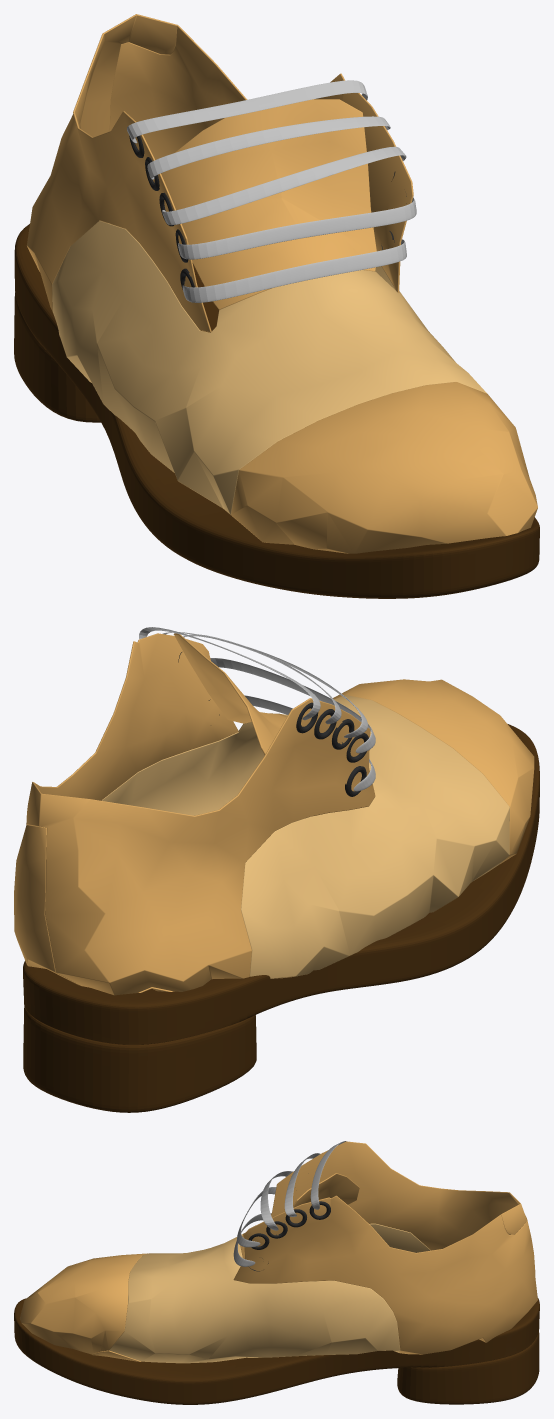
Rendered from za1ve1derecha.fbx.
3 views of the same model, one above another, from view 1: azimuth 30°, elevation 25°; view 2: azimuth 150°, elevation 25°; view 3: azimuth 270°, elevation 25° (orthographic). The views are drawn at different scales.
Visible parts, largest first — view 1: ZAPATO1_3, Plane, Plane.002, Plane.005, Plane.001, Plane.004, Plane.003; view 2: ZAPATO1_3, Plane, Plane.002, Plane.004, Plane.005, Plane.001; view 3: ZAPATO1_3, Plane, Plane.001, Plane.004, Plane.003, Plane.002, Plane.005.
Part boxes in pixels (<box>): ZAPATO1_3: <box>27,14,537,553</box>; Plane: <box>14,224,539,598</box>; Plane.002: <box>178,197,416,259</box>; Plane.005: <box>182,239,406,302</box>; Plane.001: <box>162,146,406,224</box>; Plane.004: <box>127,80,367,143</box>; Plane.003: <box>147,116,390,179</box>; ZAPATO1_3: <box>14,633,534,995</box>; Plane: <box>23,724,539,1112</box>; Plane.002: <box>210,658,375,753</box>; Plane.004: <box>139,627,320,720</box>; Plane.005: <box>244,695,375,791</box>; Plane.001: <box>183,634,367,737</box>; ZAPATO1_3: <box>19,1141,537,1363</box>; Plane: <box>14,1298,539,1404</box>; Plane.001: <box>260,1171,293,1230</box>; Plane.004: <box>310,1141,347,1209</box>; Plane.003: <box>284,1153,320,1216</box>; Plane.002: <box>237,1187,276,1247</box>; Plane.005: <box>233,1213,271,1266</box>.
Bounding box in the file's own units: 174 × 204 × 447.
